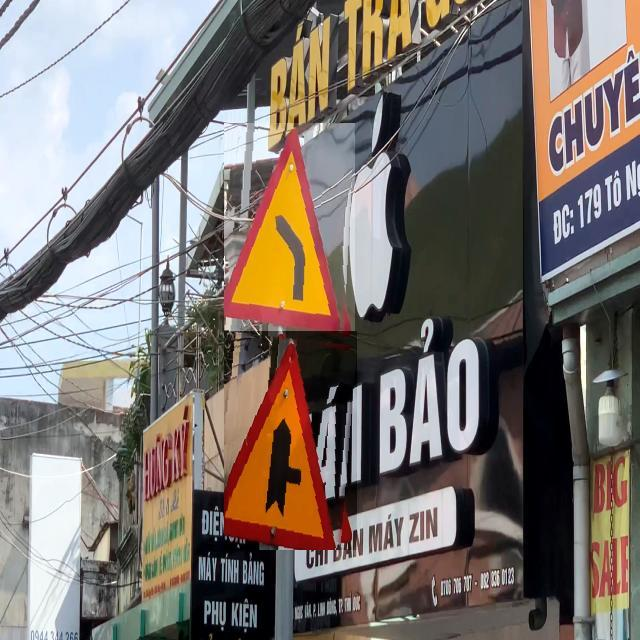W-201a: (224, 124, 355, 342)
W-207b: (224, 331, 357, 550)
